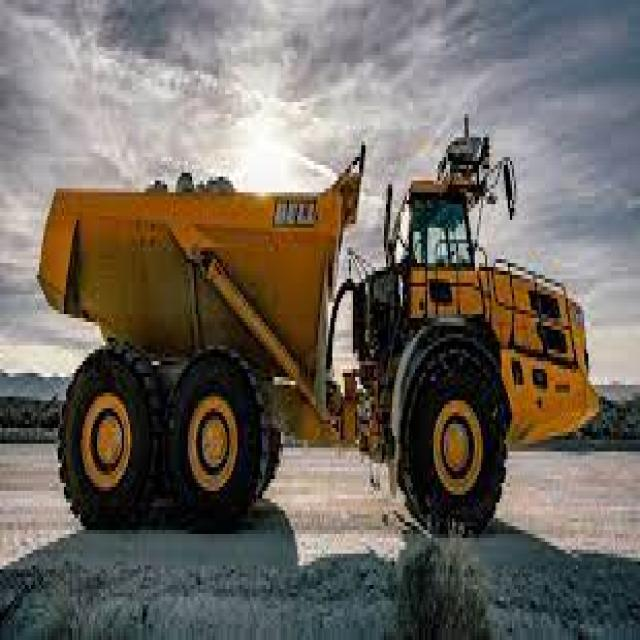dump_truck: (22, 90, 600, 577)
